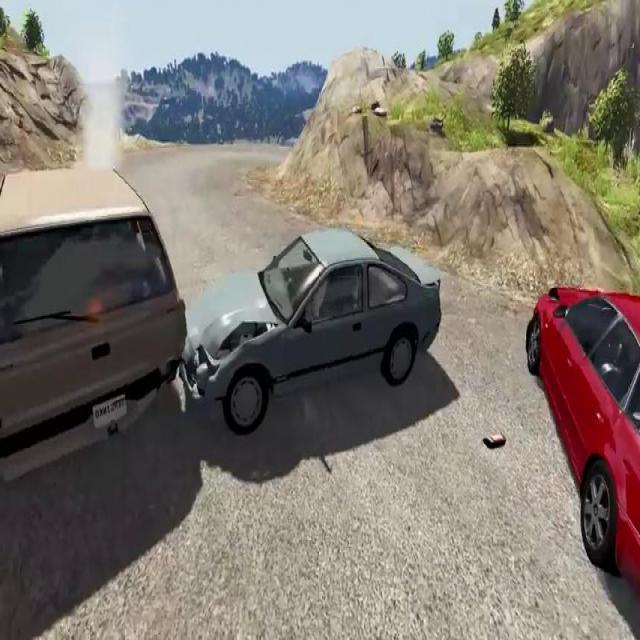accident: (0, 158, 446, 494)
